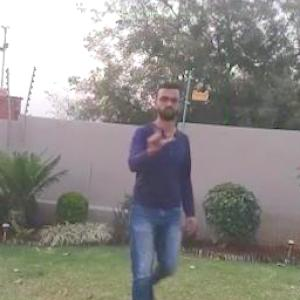land_hand: (142, 114, 176, 157)
